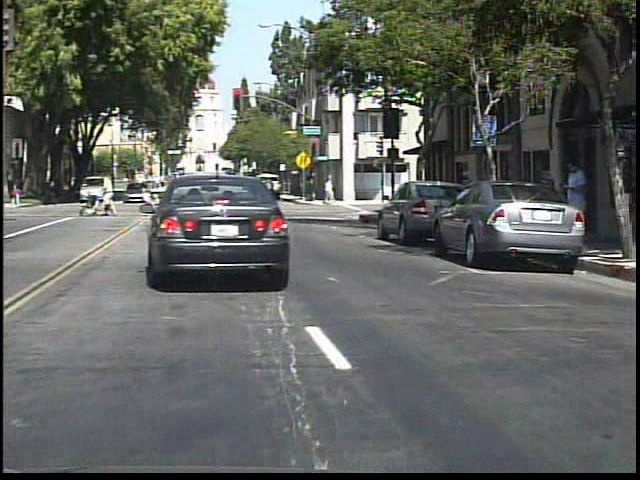person: (564, 153, 594, 258), (105, 170, 126, 218), (13, 174, 30, 209), (75, 174, 76, 206)
